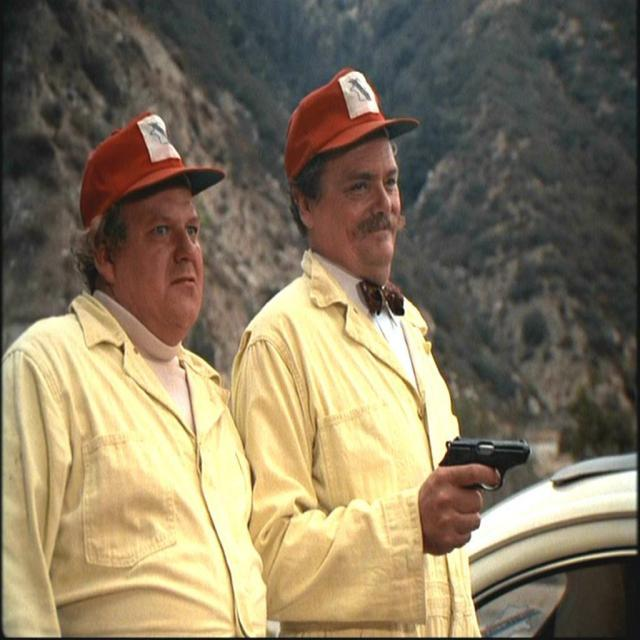gun-knife-thesis - v11 Yolov5 augmented: (430, 431, 534, 552)
